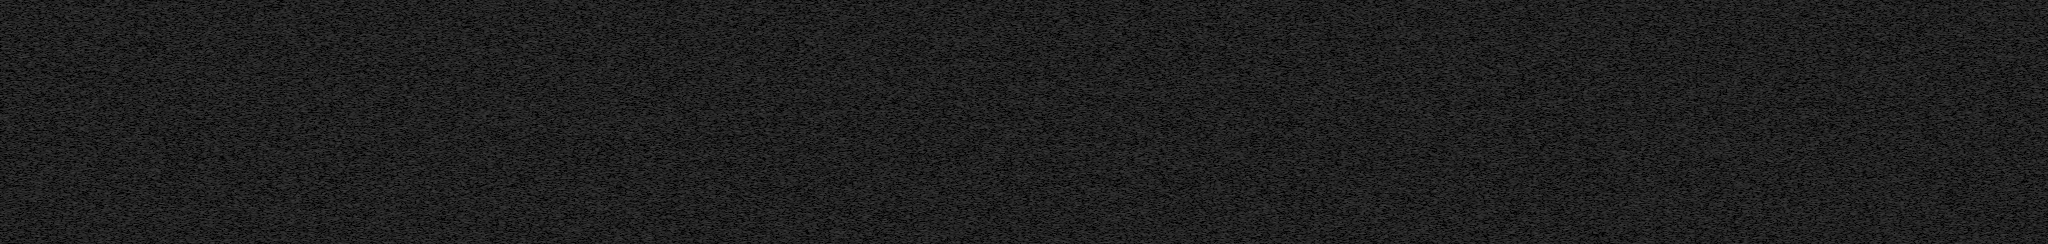wv_lsb: (1711, 20, 1716, 153), (1716, 31, 1721, 136), (1711, 154, 1716, 243), (1718, 187, 1721, 237), (1710, 158, 1714, 197), (1708, 42, 1714, 68), (1708, 5, 1714, 26), (1716, 137, 1721, 157), (1711, 4, 1716, 20), (1718, 158, 1721, 177), (1710, 223, 1714, 243), (1718, 7, 1721, 22), (1708, 72, 1714, 84), (1710, 97, 1714, 111), (1710, 144, 1714, 157), (1710, 27, 1714, 40), (1710, 127, 1714, 136), (1710, 87, 1714, 97), (1718, 179, 1721, 187), (1710, 114, 1714, 121), (1708, 215, 1714, 221), (1718, 23, 1721, 30), (1710, 198, 1714, 205), (1710, 137, 1714, 141), (1718, 240, 1721, 243), (1710, 207, 1714, 210), (1710, 123, 1714, 125)
wv_usb: (359, 93, 364, 243), (359, 4, 364, 93), (1721, 175, 1725, 210), (1721, 82, 1725, 108), (1721, 16, 1725, 35), (419, 117, 424, 130), (1721, 136, 1725, 151), (421, 7, 424, 22), (1721, 160, 1725, 174), (1721, 59, 1725, 72), (421, 94, 424, 104), (1721, 40, 1725, 50), (421, 56, 424, 65), (1721, 234, 1725, 241), (1721, 110, 1725, 117), (1721, 73, 1725, 81), (1721, 7, 1725, 14), (1721, 128, 1725, 134), (1721, 120, 1725, 127), (1721, 51, 1725, 57), (1721, 226, 1725, 231), (1721, 151, 1725, 157), (421, 23, 424, 29), (421, 37, 424, 40), (421, 132, 423, 137), (1721, 222, 1725, 224), (1721, 218, 1725, 221), (1721, 214, 1725, 217), (1721, 37, 1725, 39), (421, 52, 424, 55), (421, 48, 423, 51)
wv_wbfm: (1627, 0, 1671, 243), (199, 0, 235, 243), (1561, 0, 1591, 243)
